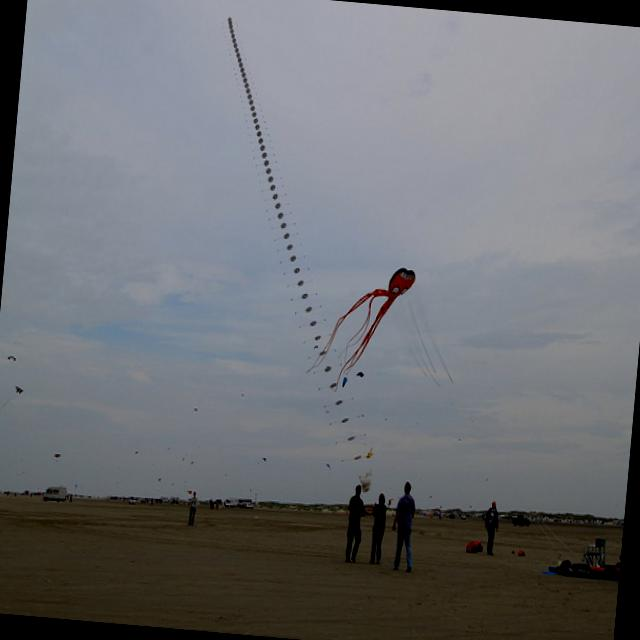Vehicle: (42, 483, 66, 503), (512, 514, 530, 528), (446, 510, 456, 518), (244, 502, 254, 508), (460, 514, 466, 520)
